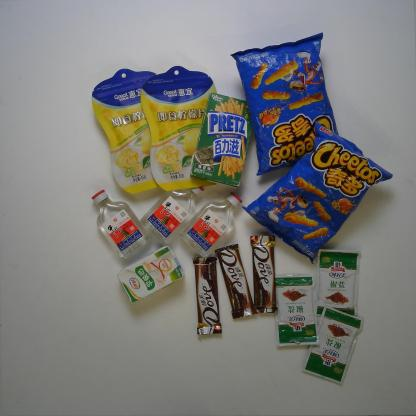Alcohol: (178, 191, 243, 258), (90, 189, 150, 260), (138, 186, 204, 240)
Chocolate: (214, 243, 257, 320), (246, 233, 278, 316), (192, 257, 222, 336)
Dessert: (189, 91, 254, 188)
Dried Fruit: (140, 65, 218, 192), (91, 67, 157, 196)
Milk: (116, 244, 185, 303)
Puffed Food: (242, 120, 394, 266), (229, 31, 339, 177)
Seasoner: (301, 304, 364, 386), (272, 271, 320, 348), (314, 248, 362, 320)
